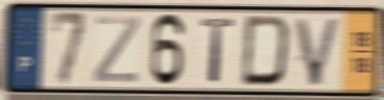6: (148, 11, 186, 88)
7: (49, 9, 88, 89)
D: (238, 13, 294, 89)
T: (198, 16, 238, 86)
V: (292, 15, 344, 89)
Z: (91, 14, 144, 85)
